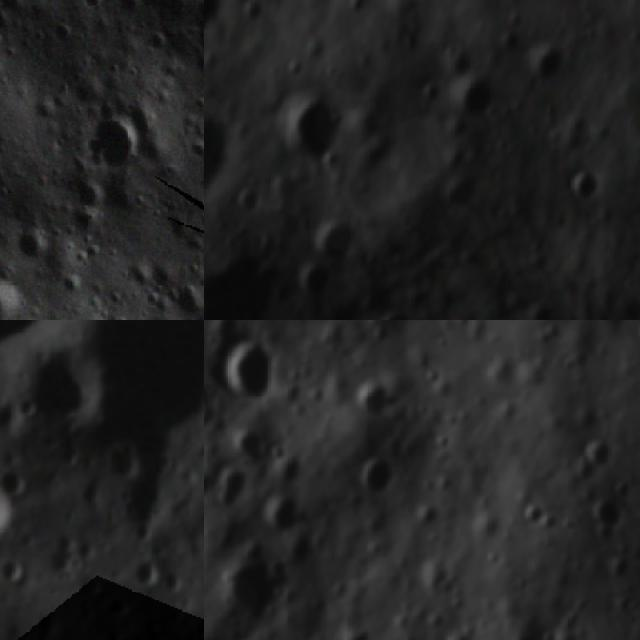crater: (212, 334, 280, 408), (217, 550, 289, 616), (84, 106, 152, 174), (286, 91, 340, 171), (204, 111, 237, 194), (587, 496, 633, 545), (317, 212, 363, 258), (355, 453, 401, 499), (258, 497, 302, 544), (460, 76, 504, 122), (211, 467, 255, 512), (352, 379, 398, 419), (0, 265, 32, 320), (229, 426, 274, 464), (533, 43, 573, 85), (567, 172, 612, 205), (584, 435, 620, 475), (0, 478, 20, 545), (514, 496, 549, 531), (0, 465, 31, 502), (294, 269, 336, 296), (132, 554, 165, 588), (238, 181, 263, 224), (171, 279, 204, 311), (109, 0, 152, 24), (48, 16, 82, 46), (417, 78, 445, 111), (0, 554, 30, 583), (439, 626, 490, 640), (76, 204, 107, 227), (58, 272, 88, 294), (0, 0, 29, 22), (341, 623, 378, 640), (420, 365, 444, 390), (17, 395, 43, 418), (246, 2, 272, 24), (345, 0, 376, 14), (536, 629, 561, 640), (444, 312, 477, 320), (449, 320, 482, 328)
